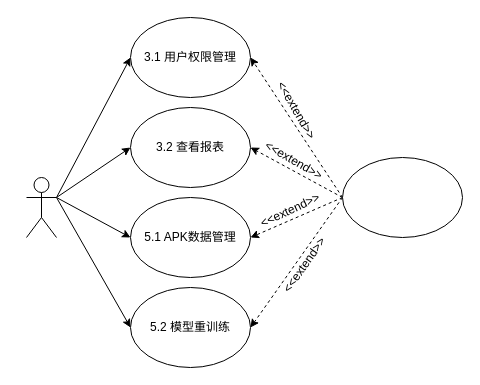
The diagram is 480 pixels wide and 385 high, and some of its shapes have lost their labels. Each missing label, with the centre of its shape:
4. 身份认证: the point at 402,197
运维人员: the point at 41,207
